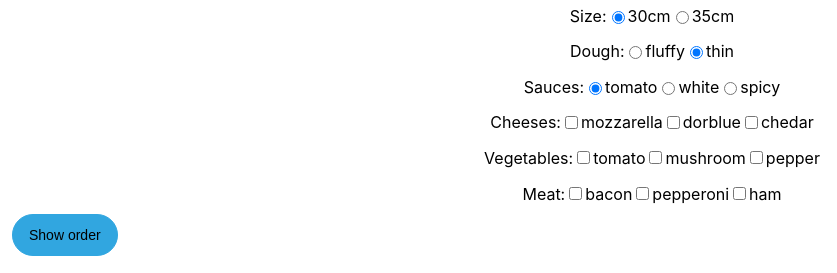
Test: ConstructorPizza › changes value pizza size
This screenshot has width=837, height=273.
Expected: the radio button labelled "30cm" is checked, x1=612 y1=11 x2=624 y2=24
Click the radio button labelled "35cm".
click(682, 17)  # box x1=676 y1=11 x2=689 y2=24
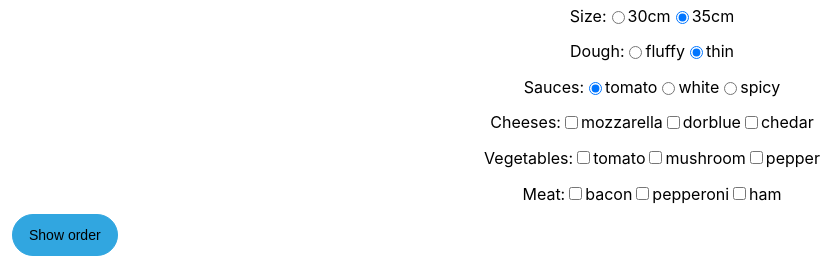
Expected: the radio button labelled "35cm" is checked, x1=676 y1=11 x2=689 y2=24
Expected: the radio button labelled "30cm" is not checked, x1=612 y1=11 x2=624 y2=24
